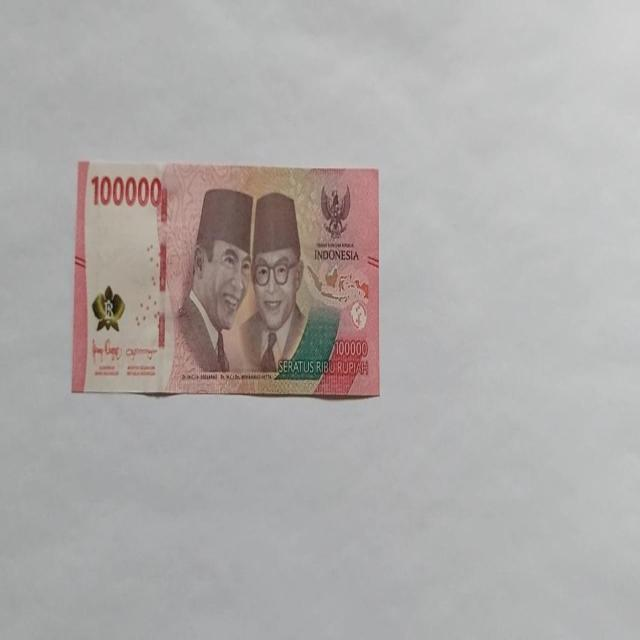Kertas: (72, 158, 380, 399), (90, 172, 164, 210)
